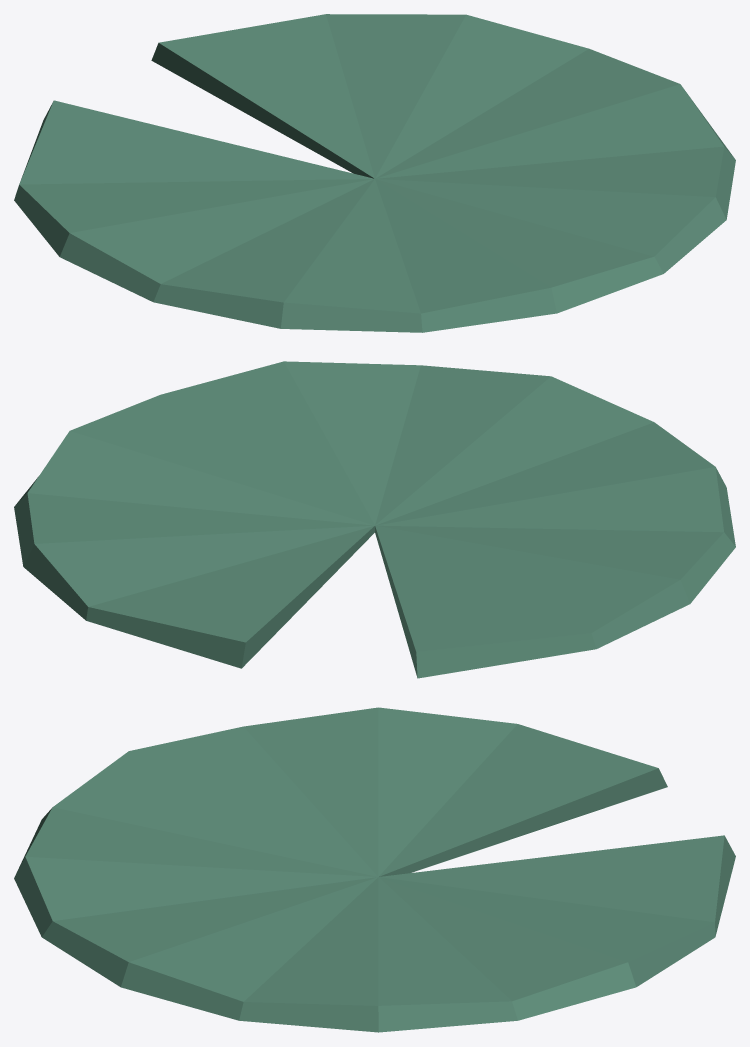
The model's file is Lilypad.fbx.
3 renders of one model, top to bottom at view 1: azimuth 30°, elevation 25°; view 2: azimuth 150°, elevation 25°; view 3: azimuth 270°, elevation 25°, orthographic.
Parts seen in each view (by area): view 1: polySurface205; view 2: polySurface205; view 3: polySurface205.
Part boxes in pixels (left/top/right/bottom): polySurface205: left=14, top=14, right=735, bottom=332; polySurface205: left=14, top=361, right=735, bottom=678; polySurface205: left=14, top=707, right=735, bottom=1032.
Size of the model in its own units: 2.06 by 0.0848 by 2.04.
